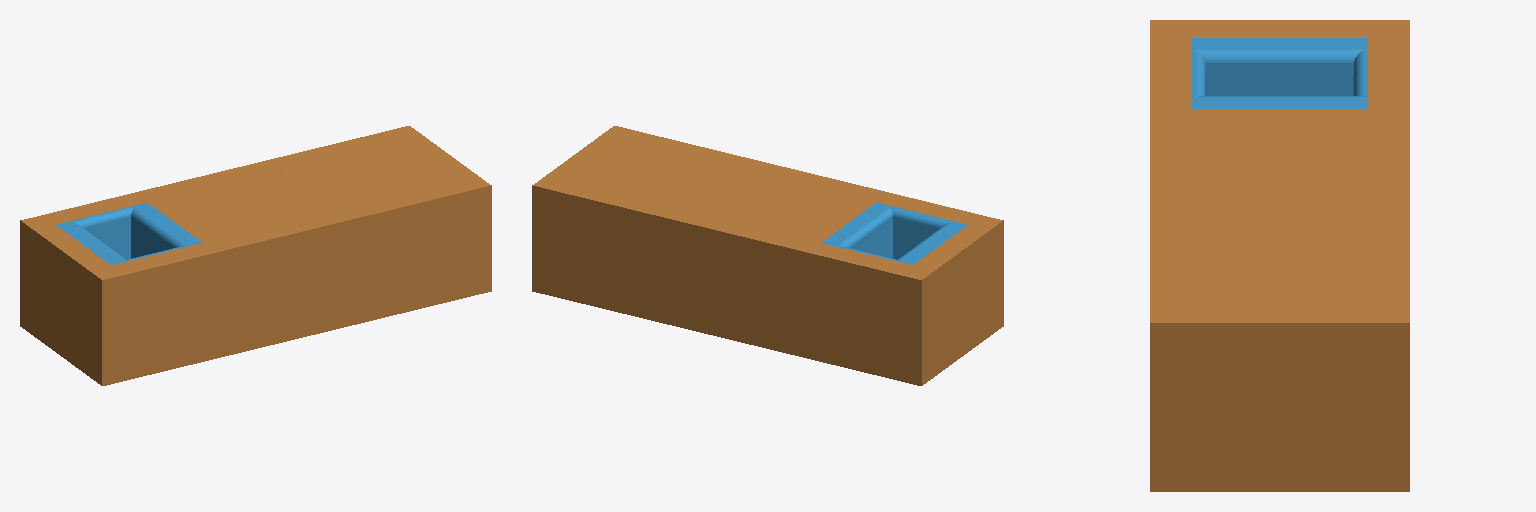
URDF robot description (fixture_beam_3x_part_2_sdf_hybrid):
<?xml version="1.0" encoding="utf-8"?>
<robot name="fixture_beam_3x_part_2_sdf_hybrid">
  <link name="plate">
    <visual>
      <origin xyz="-0.000000 0.022338 0.019050" rpy="0.000000 0.000000 0.000000"/>
      <geometry>
        <box size="0.146250 0.008665 0.038100"/>
      </geometry>
      <material name="bulk"/>
    </visual>
    <collision>
      <origin xyz="-0.000000 0.022338 0.019050" rpy="0.000000 0.000000 0.000000"/>
      <geometry>
        <box size="0.146250 0.008665 0.038100"/>
      </geometry>
    </collision>
    <visual>
      <origin xyz="-0.000000 -0.022337 0.019050" rpy="0.000000 0.000000 0.000000"/>
      <geometry>
        <box size="0.146250 0.008665 0.038100"/>
      </geometry>
      <material name="bulk"/>
    </visual>
    <collision>
      <origin xyz="-0.000000 -0.022337 0.019050" rpy="0.000000 0.000000 0.000000"/>
      <geometry>
        <box size="0.146250 0.008665 0.038100"/>
      </geometry>
    </collision>
    <visual>
      <origin xyz="-0.068984 -0.000000 0.019050" rpy="0.000000 0.000000 0.000000"/>
      <geometry>
        <box size="0.008282 0.036010 0.038100"/>
      </geometry>
      <material name="bulk"/>
    </visual>
    <collision>
      <origin xyz="-0.068984 -0.000000 0.019050" rpy="0.000000 0.000000 0.000000"/>
      <geometry>
        <box size="0.008282 0.036010 0.038100"/>
      </geometry>
    </collision>
    <visual>
      <origin xyz="0.021395 -0.000000 0.019050" rpy="0.000000 0.000000 0.000000"/>
      <geometry>
        <box size="0.103459 0.036010 0.038100"/>
      </geometry>
      <material name="bulk"/>
    </visual>
    <collision>
      <origin xyz="0.021395 -0.000000 0.019050" rpy="0.000000 0.000000 0.000000"/>
      <geometry>
        <box size="0.103459 0.036010 0.038100"/>
      </geometry>
    </collision>
    <visual>
      <origin xyz="-0.000000 -0.000000 0.018998" rpy="0.000000 0.000000 0.000000"/>
      <geometry>
        <mesh filename="../6/sdf_hybrid/6_hole_patch_for_part_2.obj" scale="1 1 1"/>
      </geometry>
      <material name="hole"/>
    </visual>
    <collision>
      <origin xyz="-0.000000 -0.000000 0.018998" rpy="0.000000 0.000000 0.000000"/>
      <geometry>
        <mesh filename="../6/sdf_hybrid/6_hole_patch_for_part_2.obj" scale="1 1 1"/>
      </geometry>
      <sdf resolution="256"/>
    </collision>
  </link>
  <material name="bulk">
    <color rgba="0.78 0.55 0.30 1.0"/>
  </material>
  <material name="hole">
    <color rgba="0.30 0.65 0.85 1.0"/>
  </material>
</robot>

--- What the picture shows (computed from the rendered views, not written in the file) ---
Views: 3 orthographic renders of the robot side by side, from view 1: azimuth 30°, elevation 25°; view 2: azimuth 150°, elevation 25°; view 3: azimuth 270°, elevation 25°.
Model fixture_beam_3x_part_2_sdf_hybrid with 1 links and 0 joints (none), rooted at plate, posed all joints at 0.
Links seen in each view (by area): view 1: plate; view 2: plate; view 3: plate.
Link boxes in pixels (x1,y1,x2,y2): plate: [20, 126, 491, 385]; plate: [532, 126, 1003, 385]; plate: [1150, 20, 1409, 491].
Bounding box of the posed robot: 0.1462 × 0.0533 × 0.0381 m (x, y, z).
Meshes: 1 distinct files referenced, 1 mesh visuals loaded (1 OBJ).
